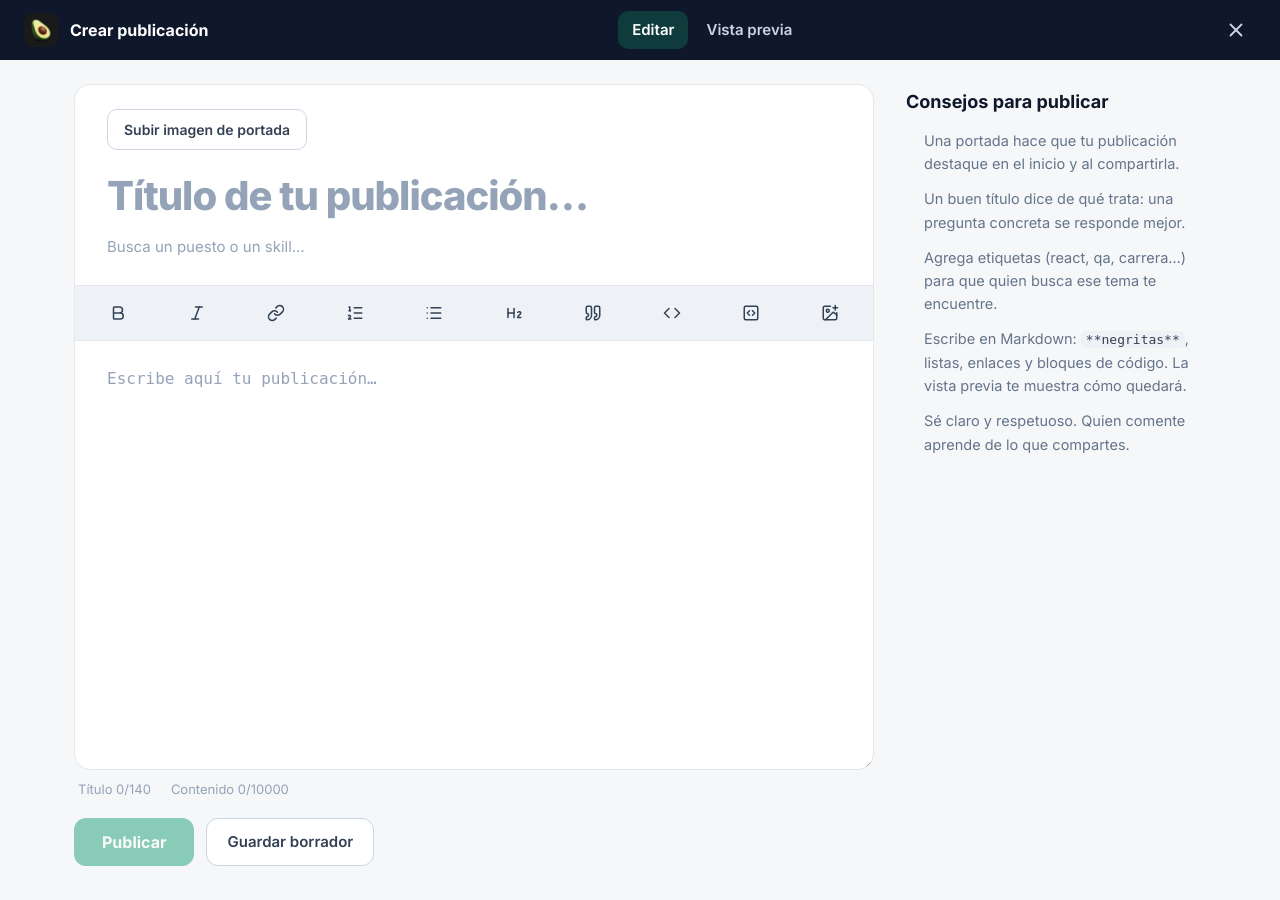
Test: PublishForm › previews the text, and a script in it is only text
In the text box named "Contenido": (474, 555) [75,340,873,769], type "Hola **mundo** <script>alert(1)</script>"
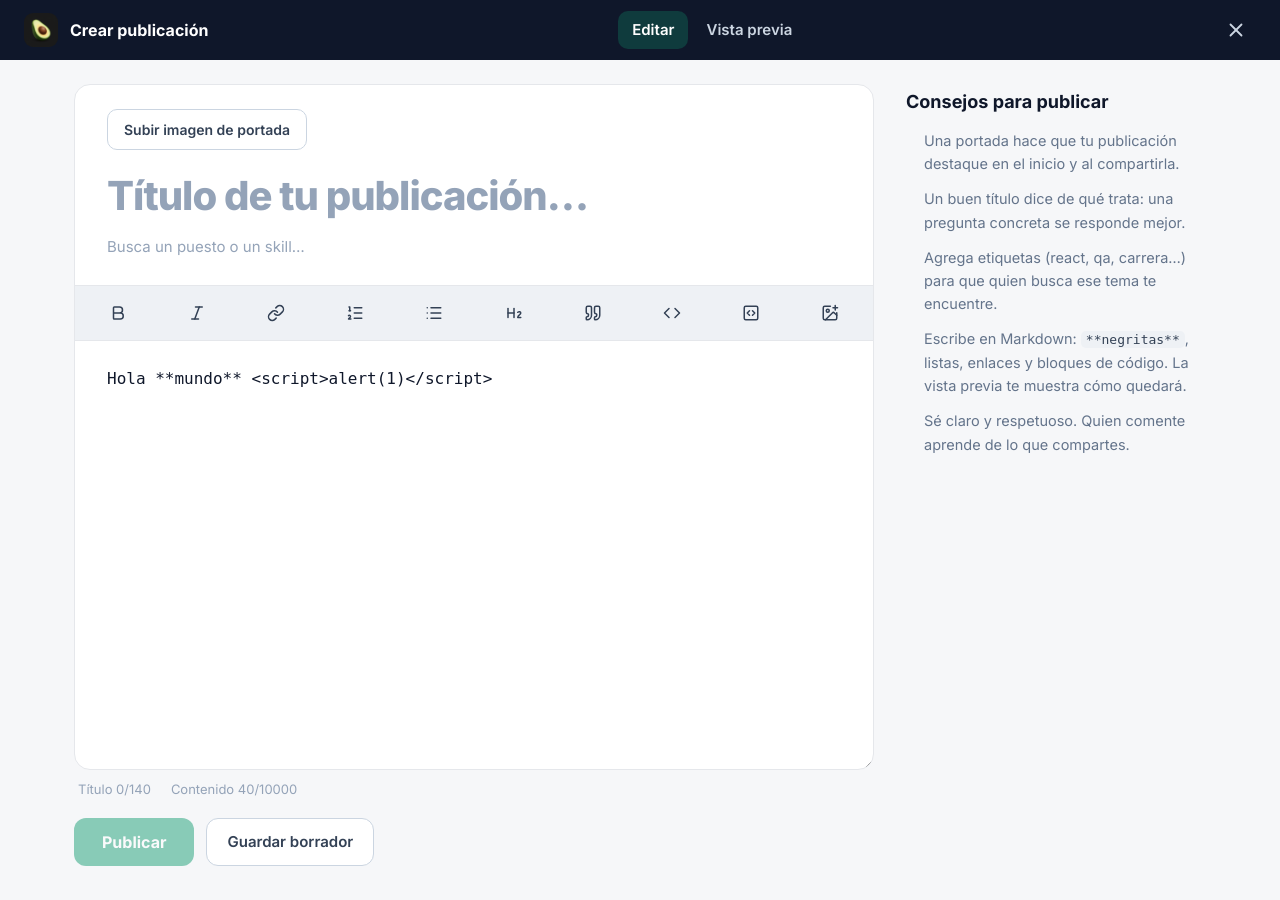
Click the tab "Vista previa": (749, 30) [692,11,806,49]
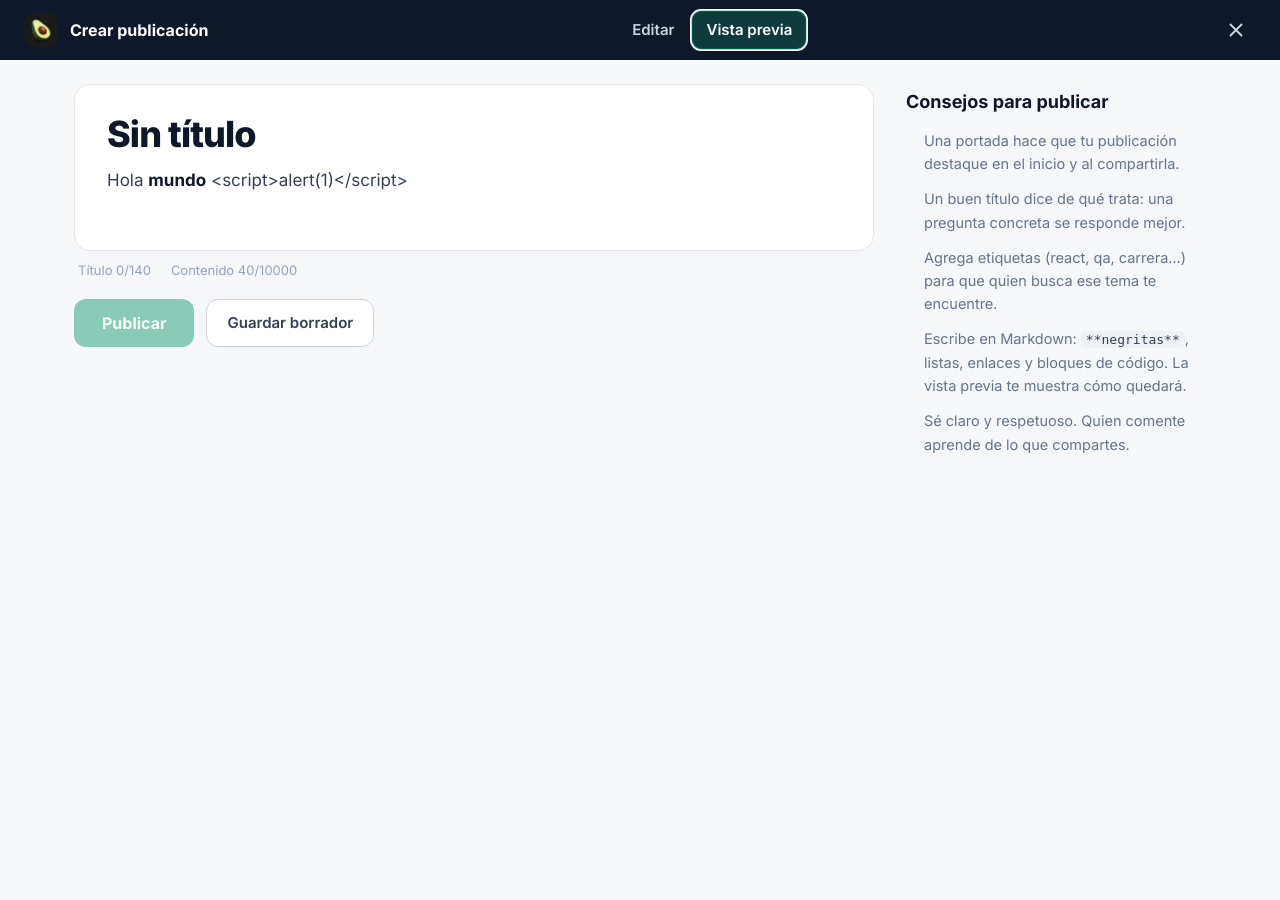
Expected: the text "mundo" is shown, [148,170,206,190]
